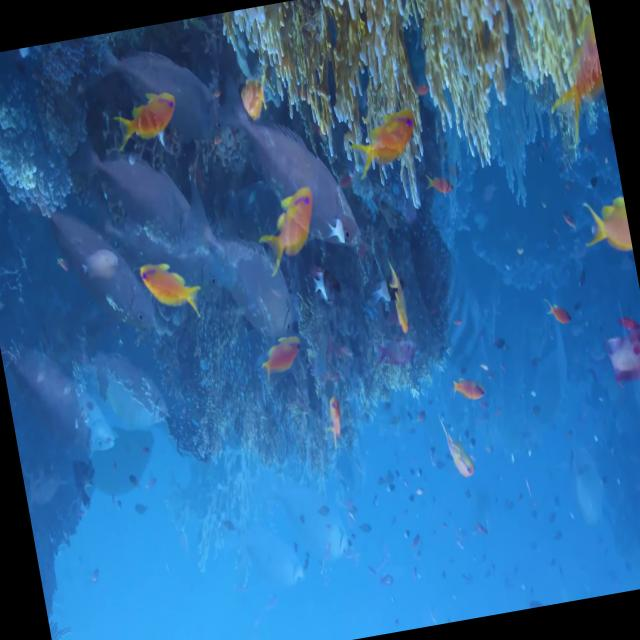fish: (134, 253, 203, 329), (349, 106, 422, 176), (258, 186, 320, 266), (112, 91, 180, 151), (256, 336, 302, 386)
